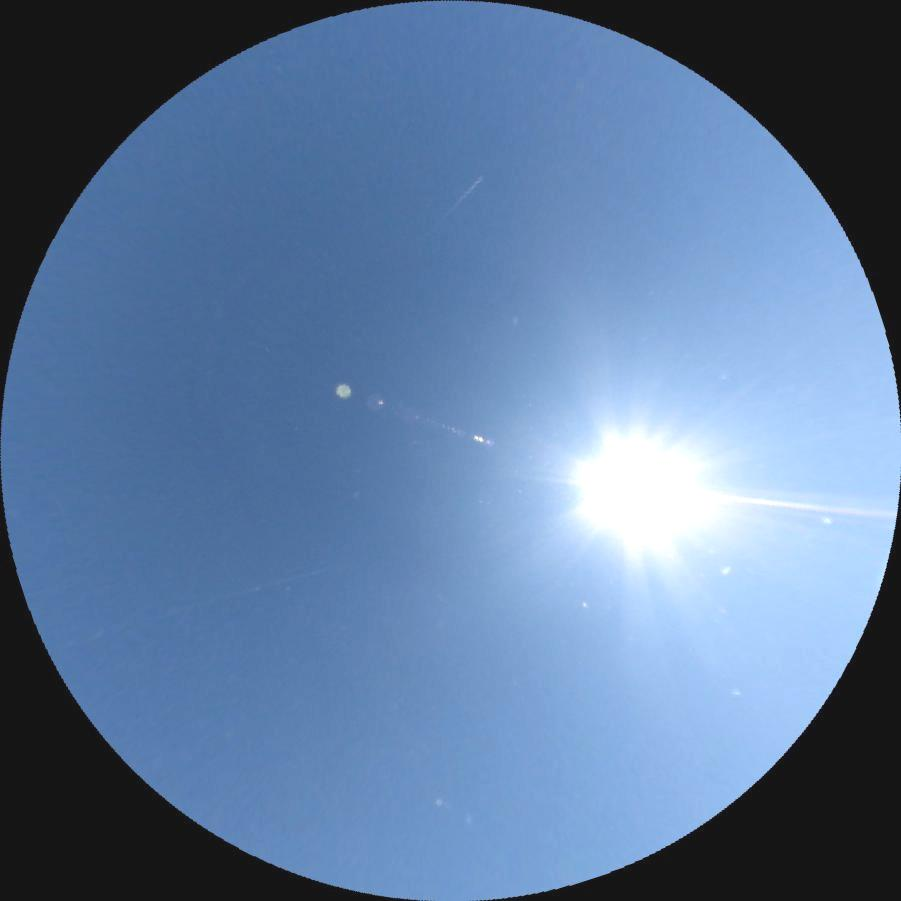contrail young: (433, 173, 486, 228)
parasite: (689, 489, 897, 521)
sun: (563, 420, 709, 559)
